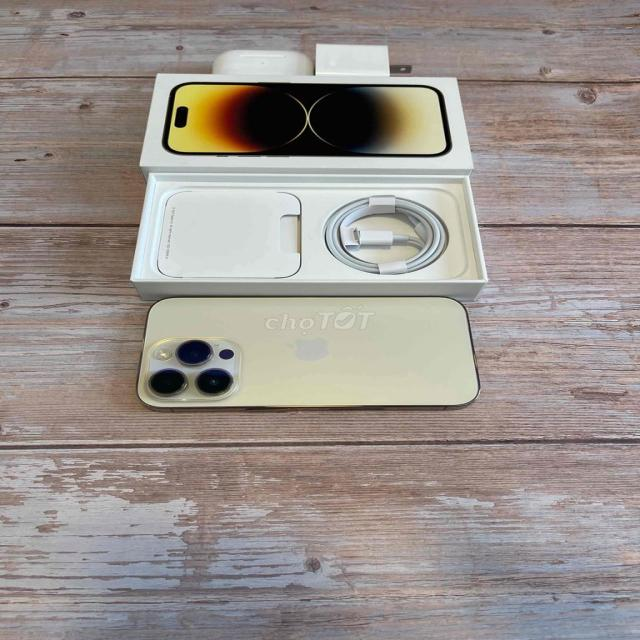gen_14: (125, 286, 496, 423)
